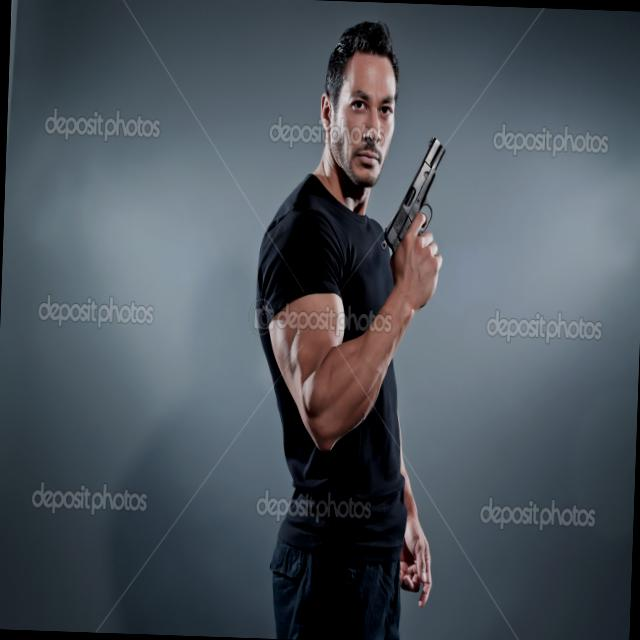handgun: (377, 132, 459, 292)
